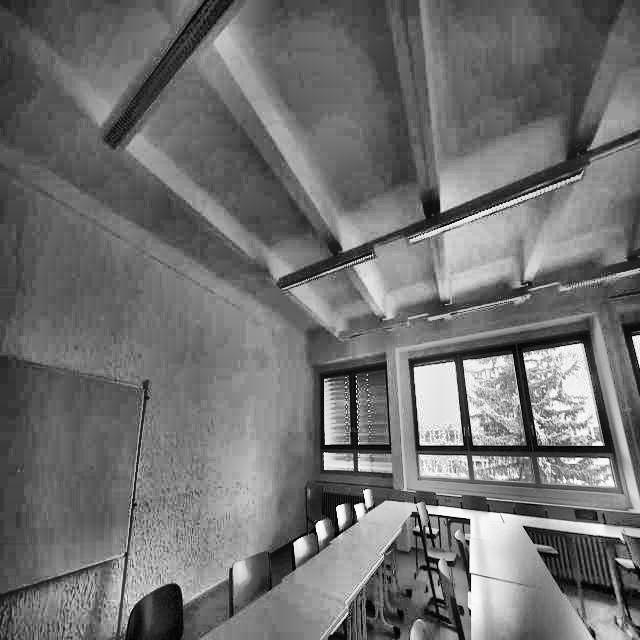ff: (86, 61, 310, 236)
